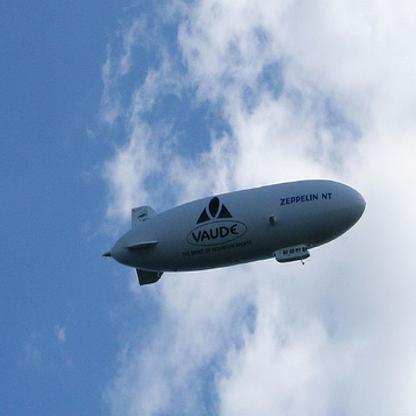Airship: (105, 178, 369, 286)
